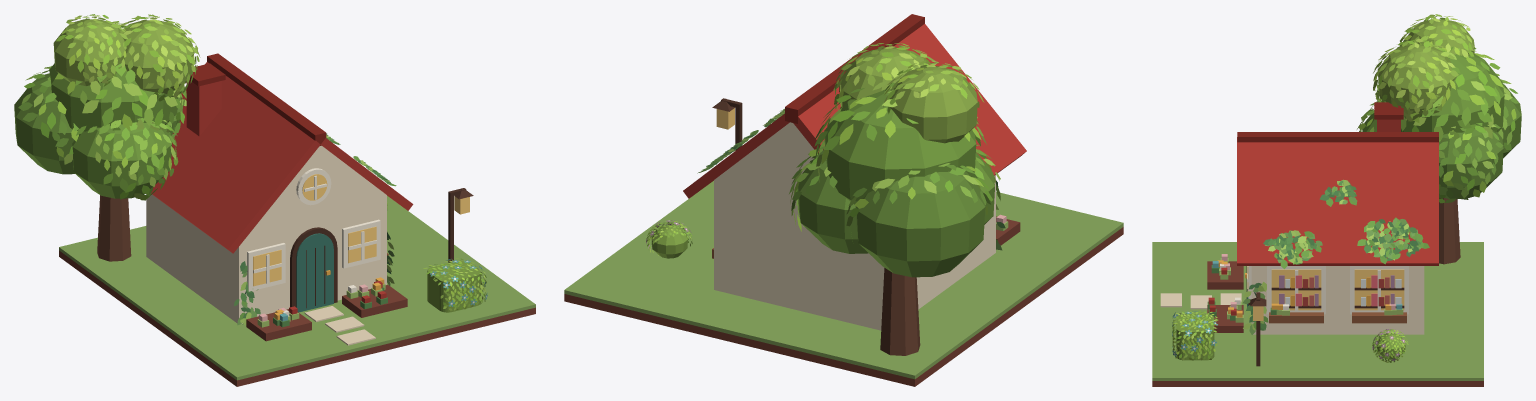
Rendered from house.glb.
3 renders of one model, left to right at view 1: azimuth 30°, elevation 25°; view 2: azimuth 150°, elevation 25°; view 3: azimuth 270°, elevation 25°, orthographic. The views are drawn at different scales.
Visible parts, largest first — view 1: house; view 2: house; view 3: house.
Boxes of the visible parts, <box> form: house: <box>14,14,535,386</box>; house: <box>564,14,1123,386</box>; house: <box>1152,14,1521,386</box>.
Size of the model in its own units: 5.64 by 3.93 by 5.57.
